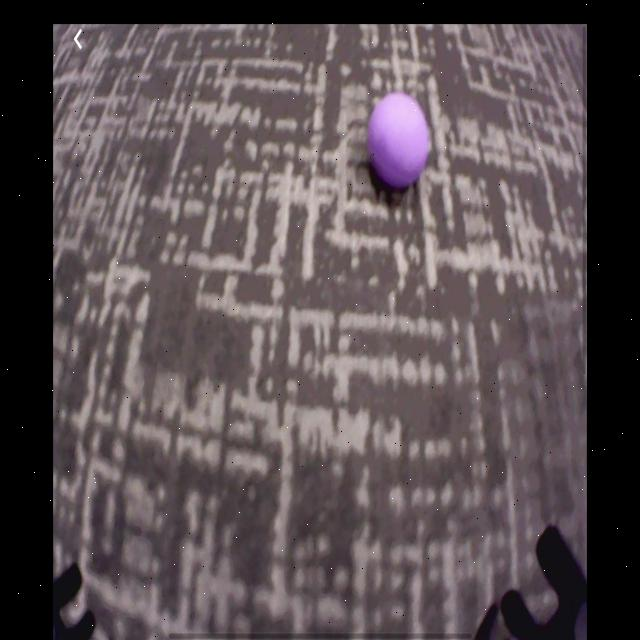ball: (366, 94, 430, 189)
